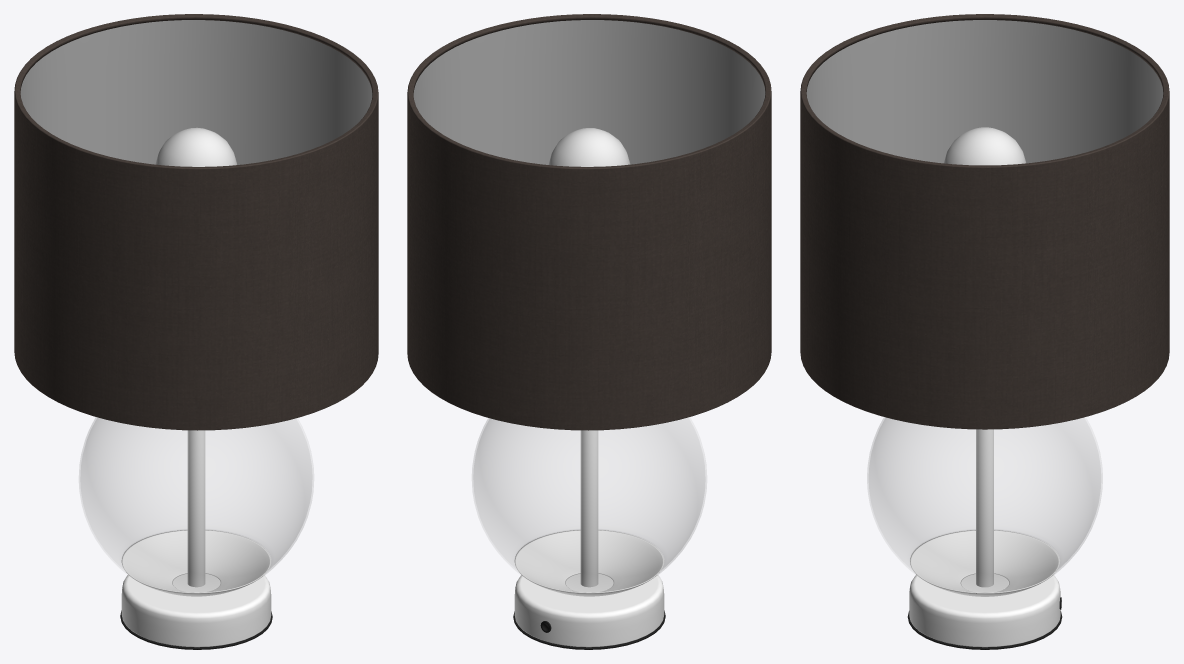
Rendered from IridescenceLamp.gltf.
3 renders of one model, left to right at view 1: azimuth 30°, elevation 25°; view 2: azimuth 150°, elevation 25°; view 3: azimuth 270°, elevation 25°, orthographic.
Visible parts, largest first — view 1: lamp, lamp_iridescence, lamp_transmission; view 2: lamp, lamp_iridescence, lamp_transmission; view 3: lamp, lamp_iridescence, lamp_transmission.
Part boxes in pixels (bbox=[...]): lamp: bbox=[14, 14, 378, 649]; lamp_iridescence: bbox=[20, 20, 372, 164]; lamp_transmission: bbox=[79, 417, 313, 592]; lamp: bbox=[407, 14, 771, 649]; lamp_iridescence: bbox=[413, 20, 765, 164]; lamp_transmission: bbox=[472, 417, 706, 592]; lamp: bbox=[800, 14, 1169, 649]; lamp_iridescence: bbox=[806, 20, 1163, 163]; lamp_transmission: bbox=[867, 417, 1102, 592].
Bounding box in the file's own units: 0.2973 × 0.4761 × 0.3019.
Materials: 3 (3 with a texture image).
